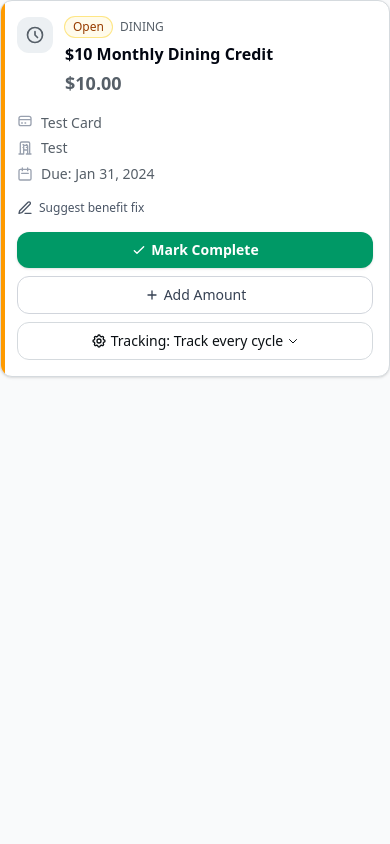
BenefitCardClient › updates the visible mode after a successful tracking choice
The width and height of the screenshot is (390, 844).
Click the button with aria-label "Tracking mode: Track every cycle" at point(195, 341), box [17,322,373,360]
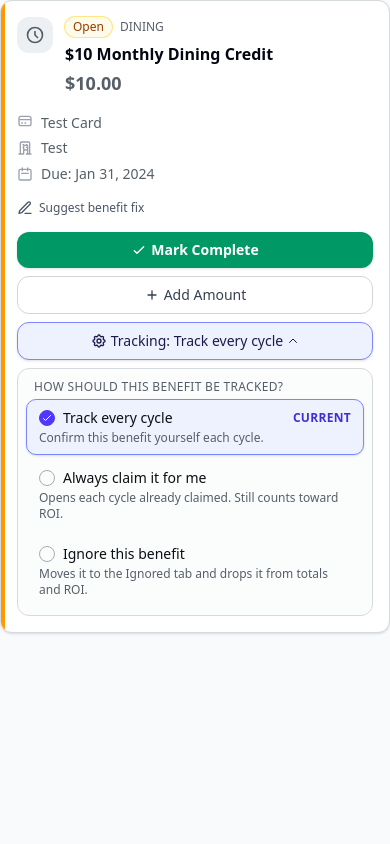
Click the button "Always claim it for me" at point(195, 495), box [26,459,364,531]
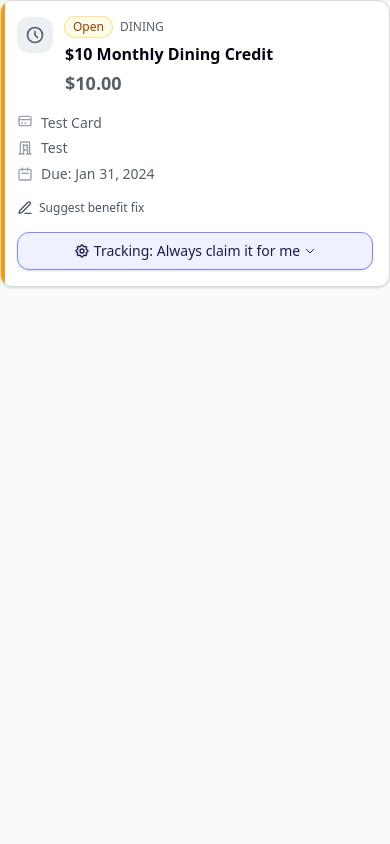
Result: the button with aria-label "Tracking mode: Always claim it for me" is shown at [17,232,373,270]
